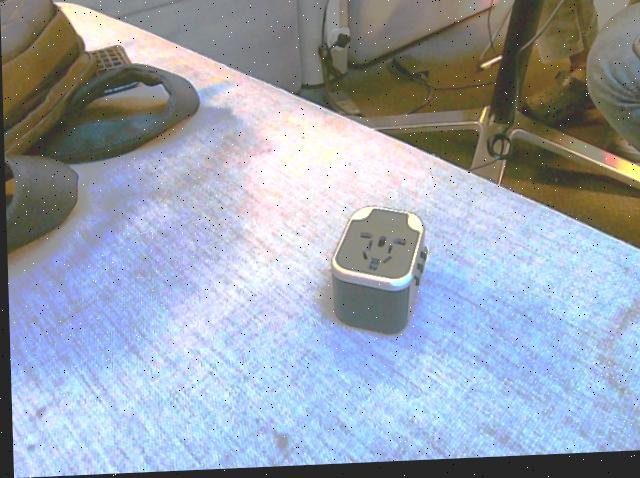adapter: (326, 207, 427, 341)
